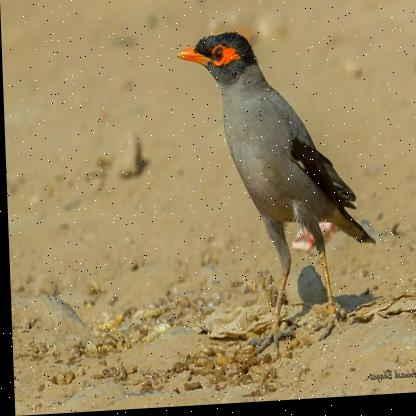Burung: (176, 28, 379, 359)
